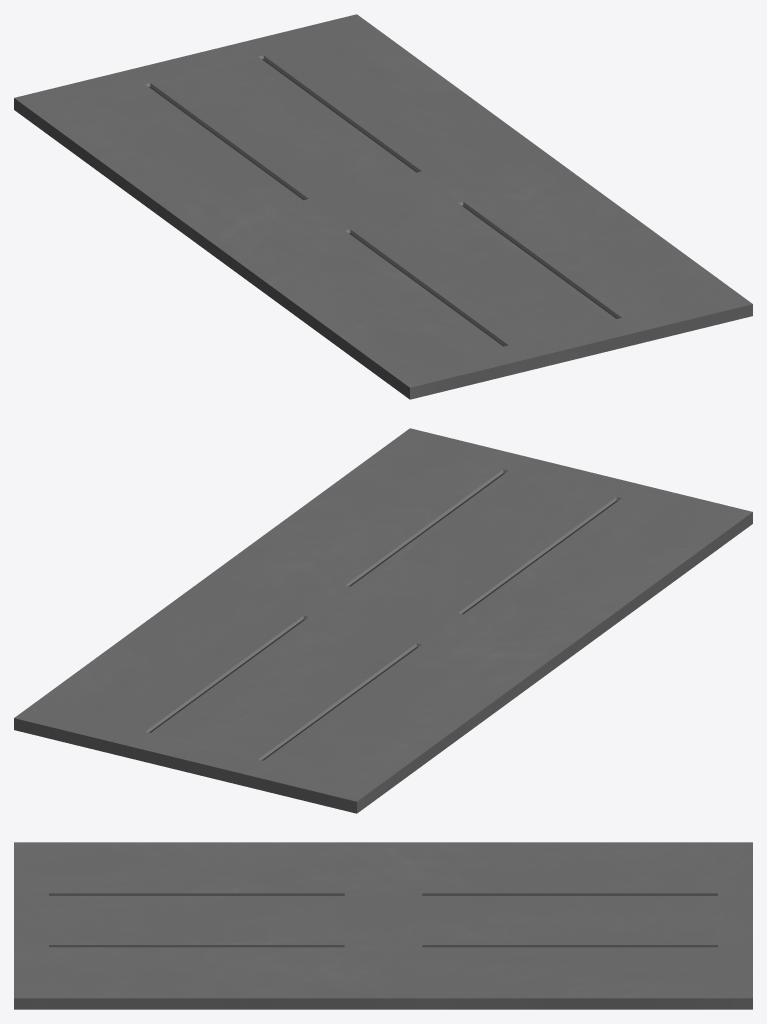
File: SM06_Building_RoofPanel_Flat_03_Default.fbx
The picture shows the model from 3 angles, top to bottom: view 1: azimuth 30°, elevation 25°; view 2: azimuth 150°, elevation 25°; view 3: azimuth 270°, elevation 25°; orthographic projection. The views are drawn at different scales.
Parts seen in each view (by area): view 1: SM06_Building_RoofPanel_Flat_03_Default; view 2: SM06_Building_RoofPanel_Flat_03_Default; view 3: SM06_Building_RoofPanel_Flat_03_Default.
Part boxes in pixels (x1,y1,x2,y2): SM06_Building_RoofPanel_Flat_03_Default: (14,14,752,399); SM06_Building_RoofPanel_Flat_03_Default: (14,428,752,813); SM06_Building_RoofPanel_Flat_03_Default: (14,842,752,1009).
Size of the model in its own units: 15 by 0.5 by 30.
